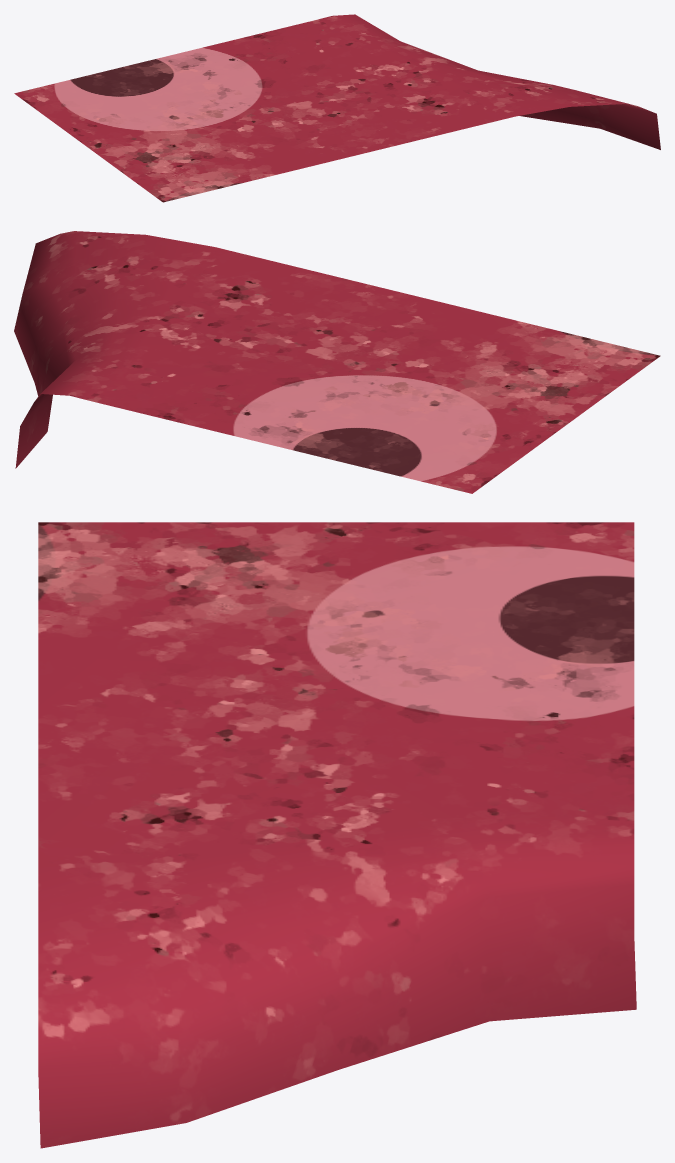
The model's file is exterior suelo curva.fbx.
3 renders of one model, top to bottom at view 1: azimuth 30°, elevation 25°; view 2: azimuth 150°, elevation 25°; view 3: azimuth 270°, elevation 25°, orthographic. The views are drawn at different scales.
Visible parts, largest first — view 1: Cube.108; view 2: Cube.108; view 3: Cube.108.
Boxes of the visible parts, box(x1,y1,x2,y2) form: Cube.108: box(14, 14, 660, 202); Cube.108: box(14, 231, 660, 493); Cube.108: box(38, 522, 636, 1148).
Bounding box in the file's own units: 772 × 106 × 402.
